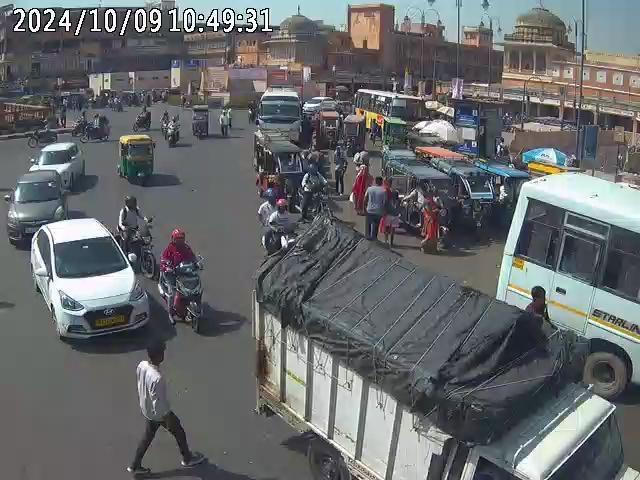auto: (398, 146, 500, 218), (257, 139, 308, 214), (118, 132, 155, 181), (312, 102, 348, 148), (191, 104, 210, 139)
bus: (491, 168, 640, 394), (352, 87, 426, 136), (257, 84, 304, 146)
car: (27, 217, 150, 346), (7, 168, 72, 241), (27, 141, 84, 192)
helmet: (169, 224, 188, 248), (125, 194, 138, 212)
lorry: (254, 224, 617, 480)
motorbike-rider: (116, 194, 156, 265), (259, 195, 299, 255), (298, 160, 334, 220), (27, 116, 60, 150)
person: (128, 340, 209, 476), (362, 177, 391, 243), (419, 190, 445, 253), (350, 168, 372, 210), (334, 149, 346, 196), (354, 146, 372, 170), (219, 109, 230, 140)
scooty-rider: (159, 226, 207, 331)
